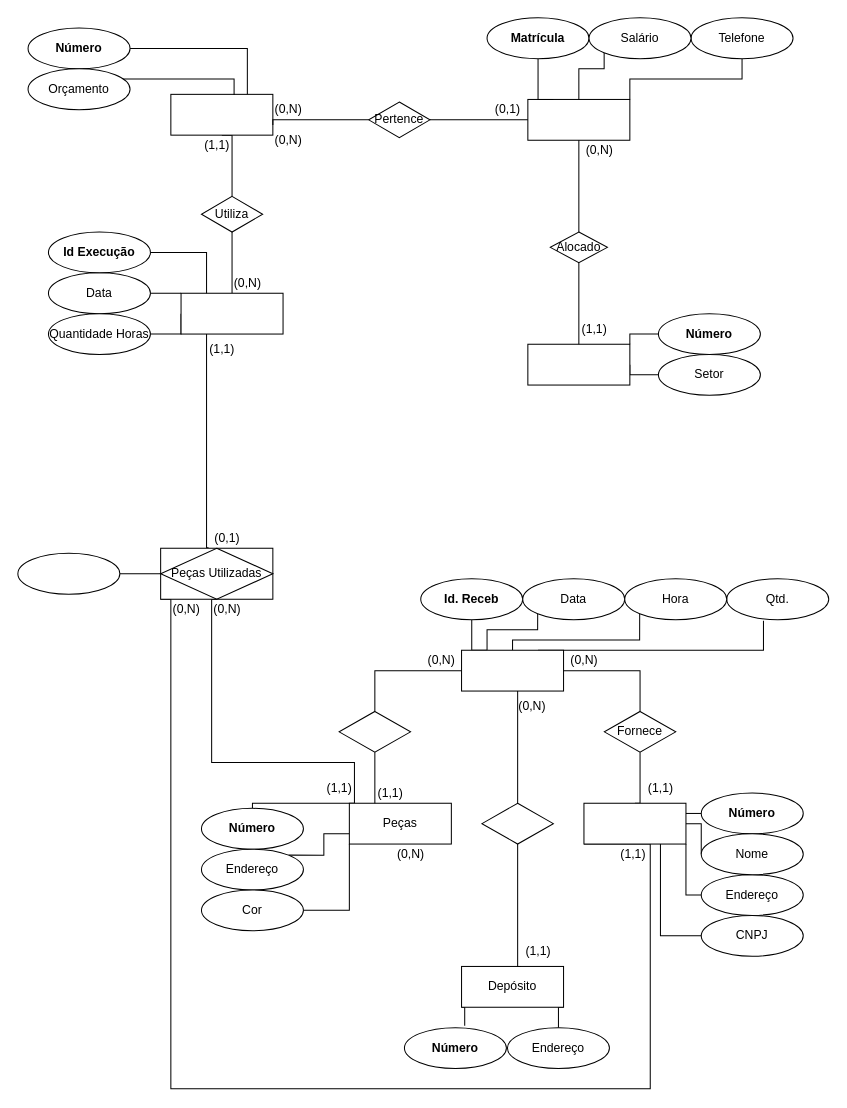
This 847x1108 diagram has some shape labels left out. The box of each missing label's shape, as (x1, y1, x2, y2) in pixels:
Contem: (481, 802, 553, 844)
Departamento: (527, 343, 630, 385)
Execução: (180, 292, 283, 334)
Fornecedor: (583, 802, 686, 844)
Fornecida: (338, 710, 411, 752)
Funcionario: (527, 98, 630, 140)
Projeto: (170, 93, 273, 135)
Quantidade: (17, 552, 120, 594)
Recebimentos: (461, 649, 564, 691)
